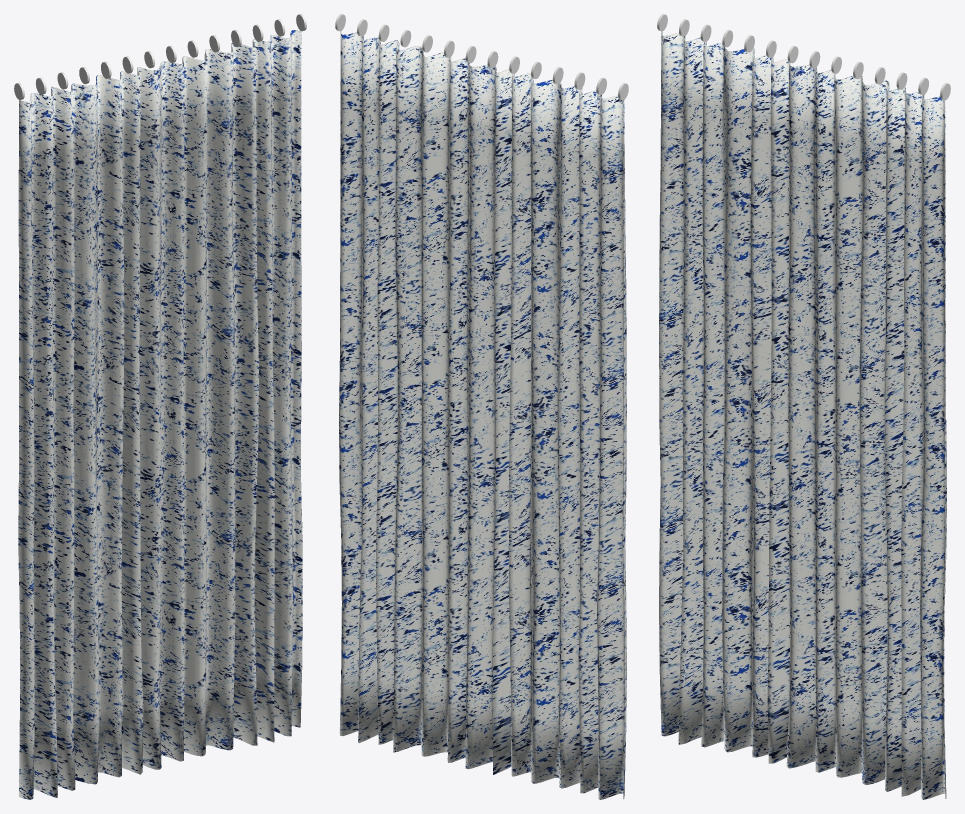
The model's file is recsSzgHekpi5zKmS.glb.
The picture shows the model from 3 angles, left to right: view 1: azimuth 30°, elevation 25°; view 2: azimuth 150°, elevation 25°; view 3: azimuth 330°, elevation 25°; orthographic projection.
Visible parts, largest first — view 1: rideau_douche_etage_Corps; view 2: rideau_douche_etage_Corps; view 3: rideau_douche_etage_Corps.
Part boxes in pixels (x1,y1,x2,y2): rideau_douche_etage_Corps: (14,14,306,799); rideau_douche_etage_Corps: (335,14,628,799); rideau_douche_etage_Corps: (657,14,950,799).
Bounding box in the file's own units: 0.796 × 1.91 × 0.0997.
2 materials, 1 textured.
